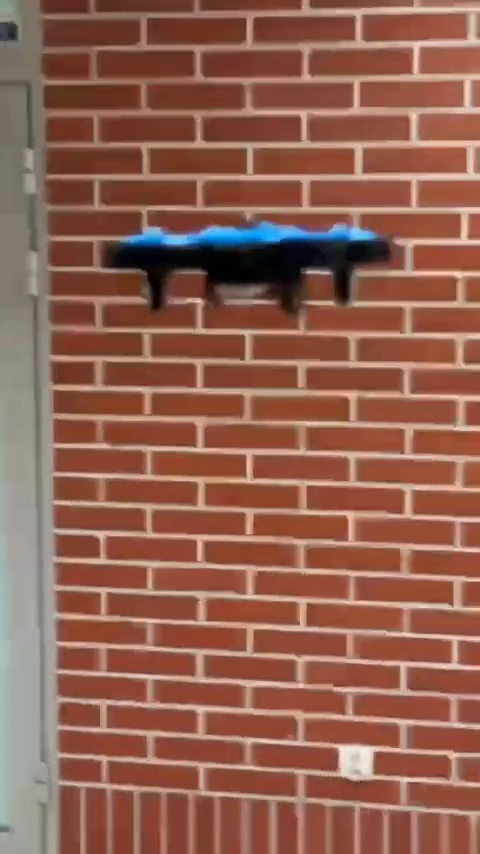drone: (114, 226, 388, 319)
